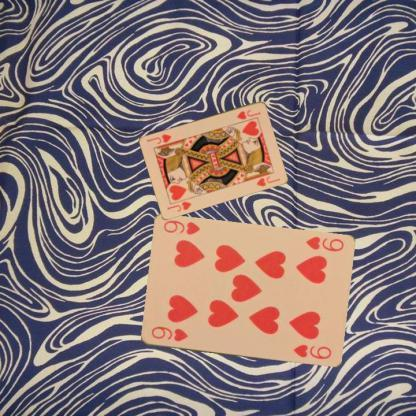9h: (303, 234, 345, 253), (148, 324, 189, 343)
Jh: (234, 107, 262, 121), (164, 198, 192, 212)
